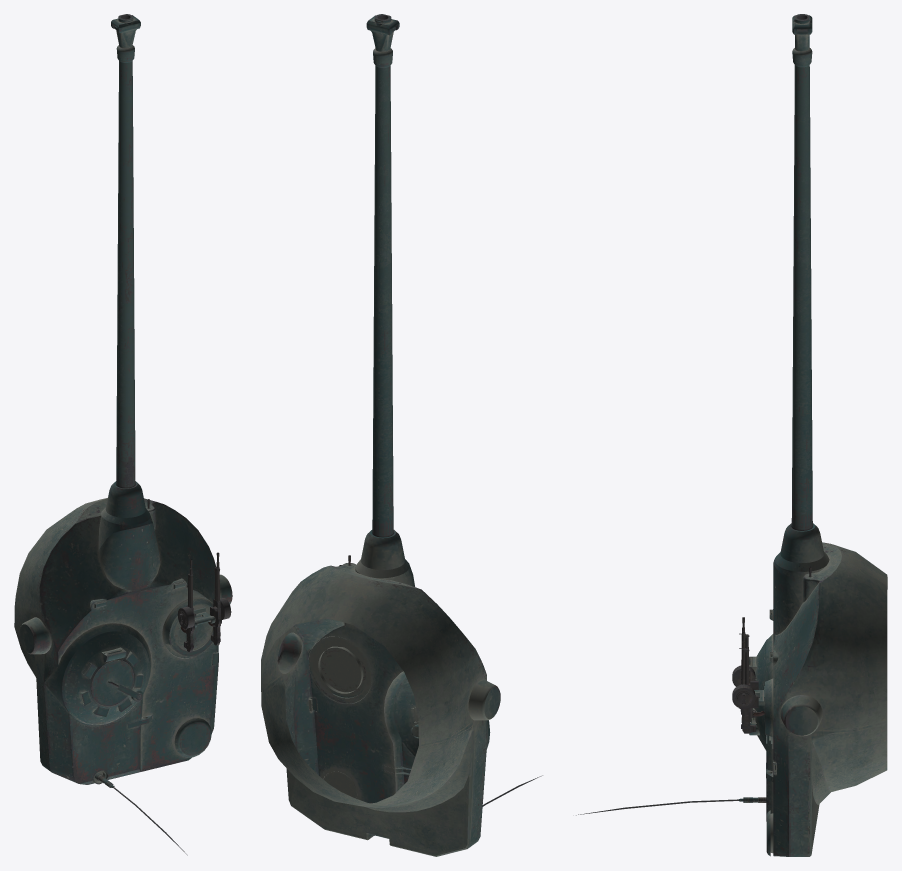
The model's file is Gun_02.glb.
3 renders of one model, left to right at view 1: azimuth 30°, elevation 25°; view 2: azimuth 150°, elevation 25°; view 3: azimuth 270°, elevation 25°, orthographic. The views are drawn at different scales.
Visible parts, largest first — view 1: set_0_group_0; view 2: set_0_group_0; view 3: set_0_group_0.
Part boxes in pixels (bbox=[...]): set_0_group_0: bbox=[14, 14, 232, 855]; set_0_group_0: bbox=[261, 14, 542, 856]; set_0_group_0: bbox=[576, 14, 887, 856].
Size of the model in its own units: 2.32 by 8.42 by 2.93.
1 material, 1 textured.
